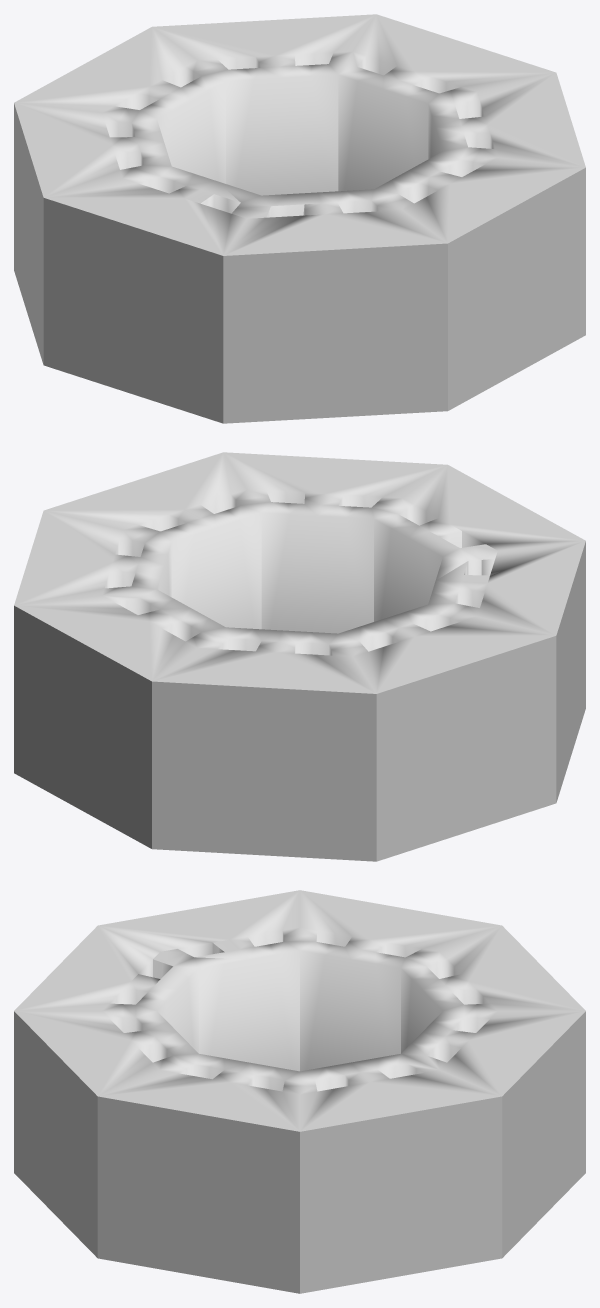
Rendered from tape_core_around.obj.
The picture shows the model from 3 angles, top to bottom: view 1: azimuth 30°, elevation 25°; view 2: azimuth 150°, elevation 25°; view 3: azimuth 270°, elevation 25°; orthographic projection. The views are drawn at different scales.
Visible parts, largest first — view 1: base_円柱; view 2: base_円柱; view 3: base_円柱.
Part boxes in pixels (<box>): base_円柱: <box>14,14,585,423</box>; base_円柱: <box>14,452,585,861</box>; base_円柱: <box>14,890,585,1293</box>.
Size of the model in its own units: 0.1 by 0.0312 by 0.1.
